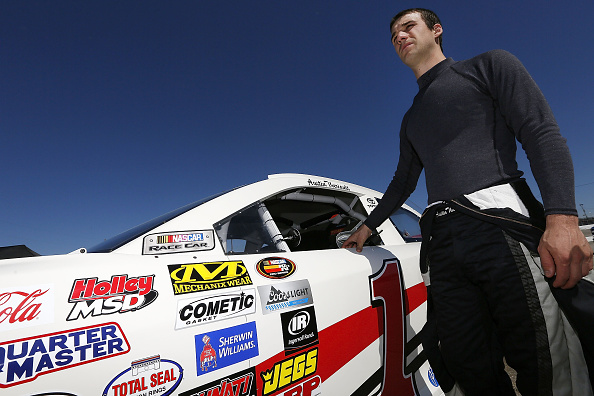em pe: (330, 0, 585, 396)
